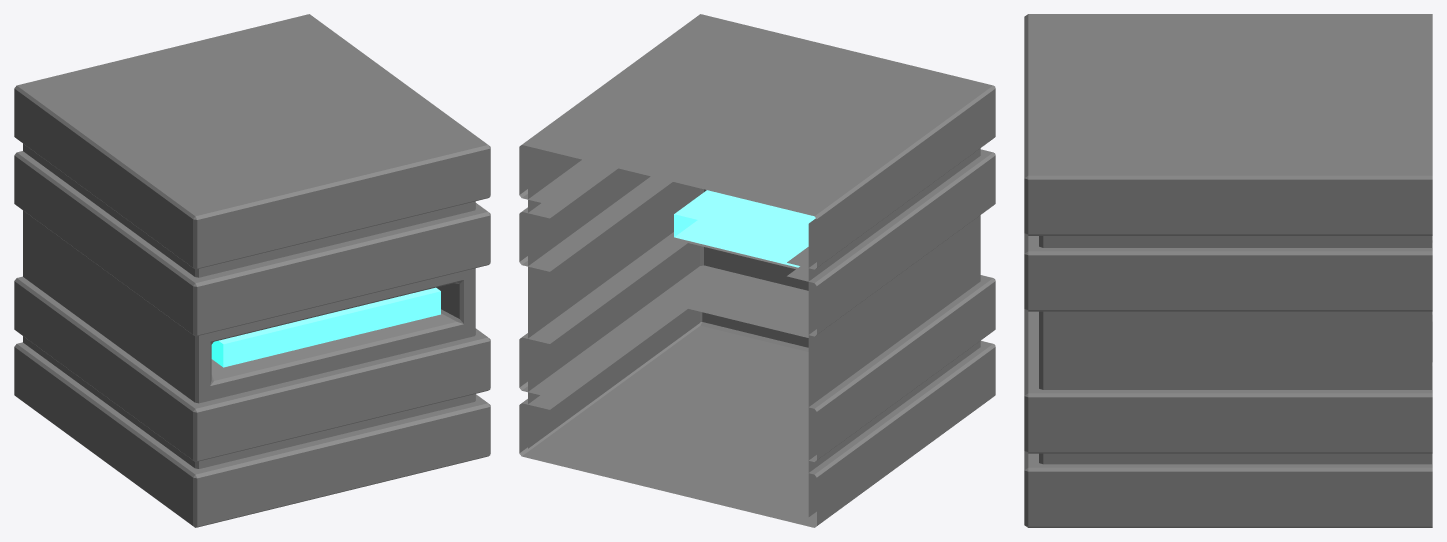
File: Block1.fbx
3 views of the same model, side by side, from view 1: azimuth 30°, elevation 25°; view 2: azimuth 150°, elevation 25°; view 3: azimuth 270°, elevation 25° (orthographic). The views are drawn at different scales.
Visible parts, largest first — view 1: polySurface5; view 2: polySurface5; view 3: polySurface5.
Part boxes in pixels (<box>): polySurface5: <box>14,14,490,527</box>; polySurface5: <box>519,14,995,527</box>; polySurface5: <box>1024,14,1432,527</box>.
Bounding box in the file's own units: 100 × 100 × 105.
